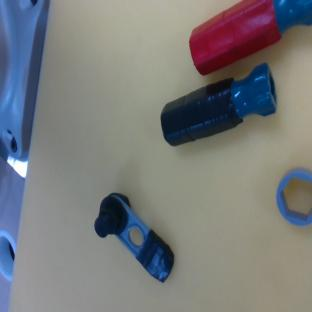part_1_bad: (83, 186, 189, 286)
part_2_bad: (152, 62, 285, 153)
part_3_good: (277, 168, 312, 226)
